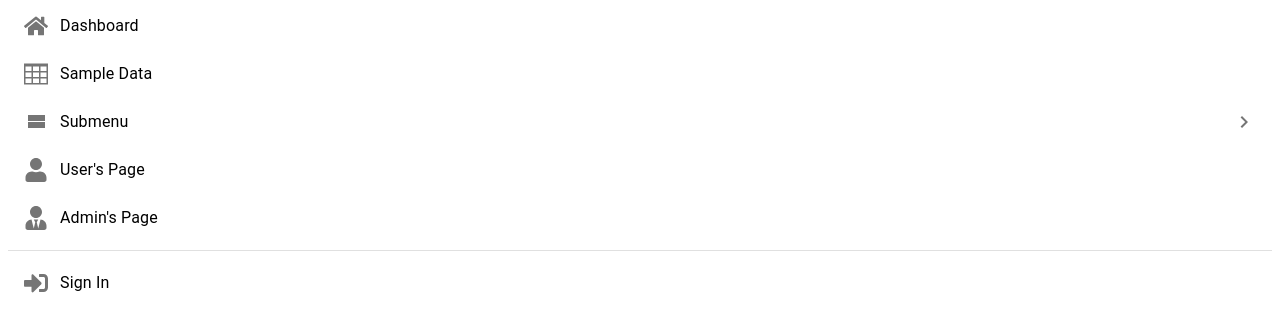
Test: Testing MenuItemsList Component › 1-st level submenu click
Click the button "Submenu". click: x=94, y=122
box: [24, 110, 1256, 134]
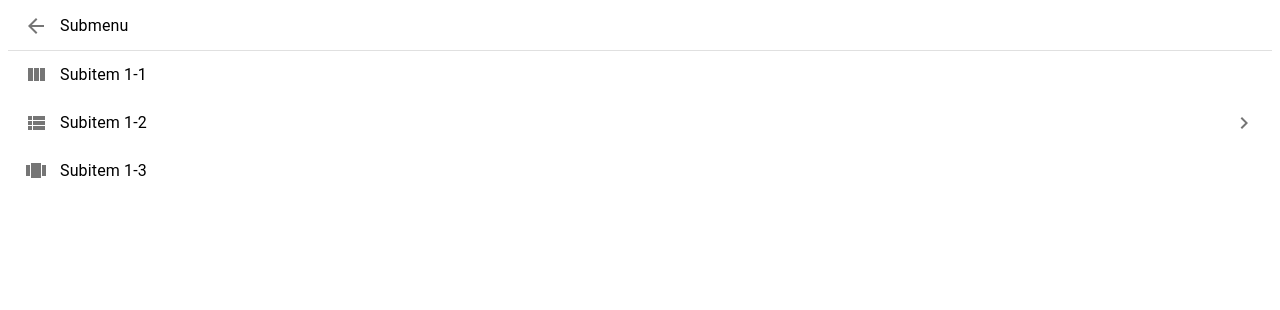
expect the text "Subitem 1-1" is shown: met, box [60, 65, 147, 84]
expect the text "Subitem 1-2" is shown: met, box [60, 113, 147, 132]
expect the text "Subitem 1-3" is shown: met, box [60, 161, 147, 180]
